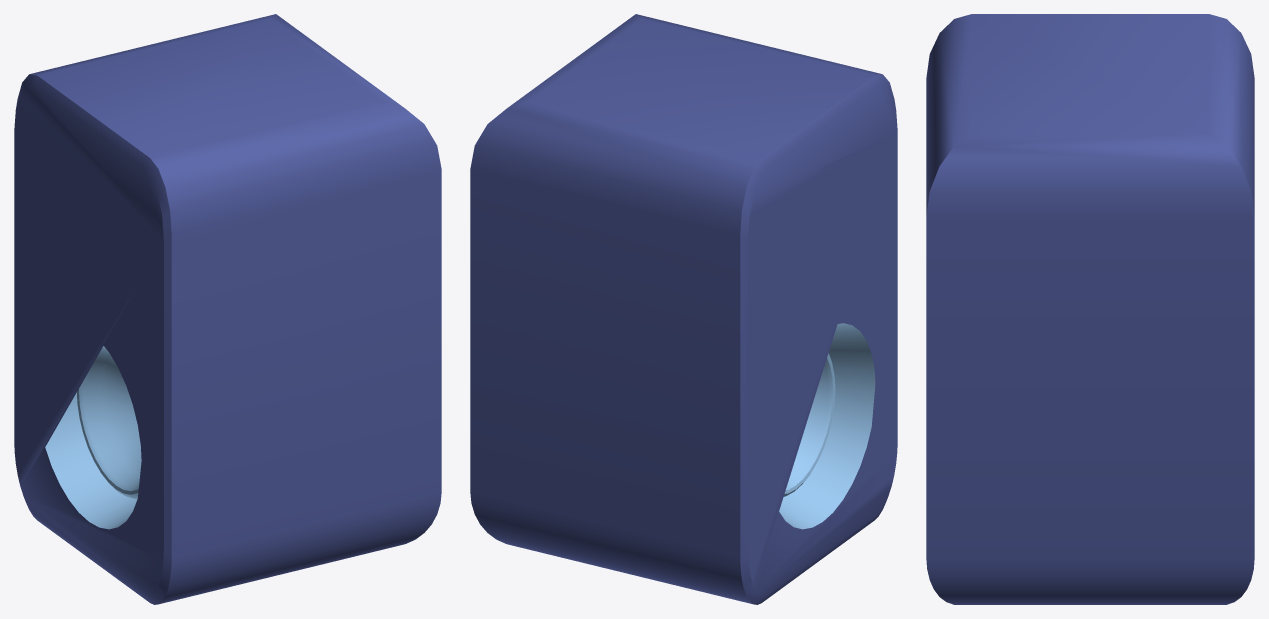
File: sonido.fbx
3 views of the same model, side by side, from view 1: azimuth 30°, elevation 25°; view 2: azimuth 150°, elevation 25°; view 3: azimuth 270°, elevation 25° (orthographic). The views are drawn at different scales.
Parts seen in each view (by area): view 1: Bafle; view 2: Bafle; view 3: Bafle.
Part boxes in pixels (x1=…): Bafle: x1=14, y1=14, x2=441, y2=604; Bafle: x1=470, y1=14, x2=897, y2=604; Bafle: x1=926, y1=14, x2=1254, y2=604.
Size of the model in its own units: 264 by 409 by 260.
